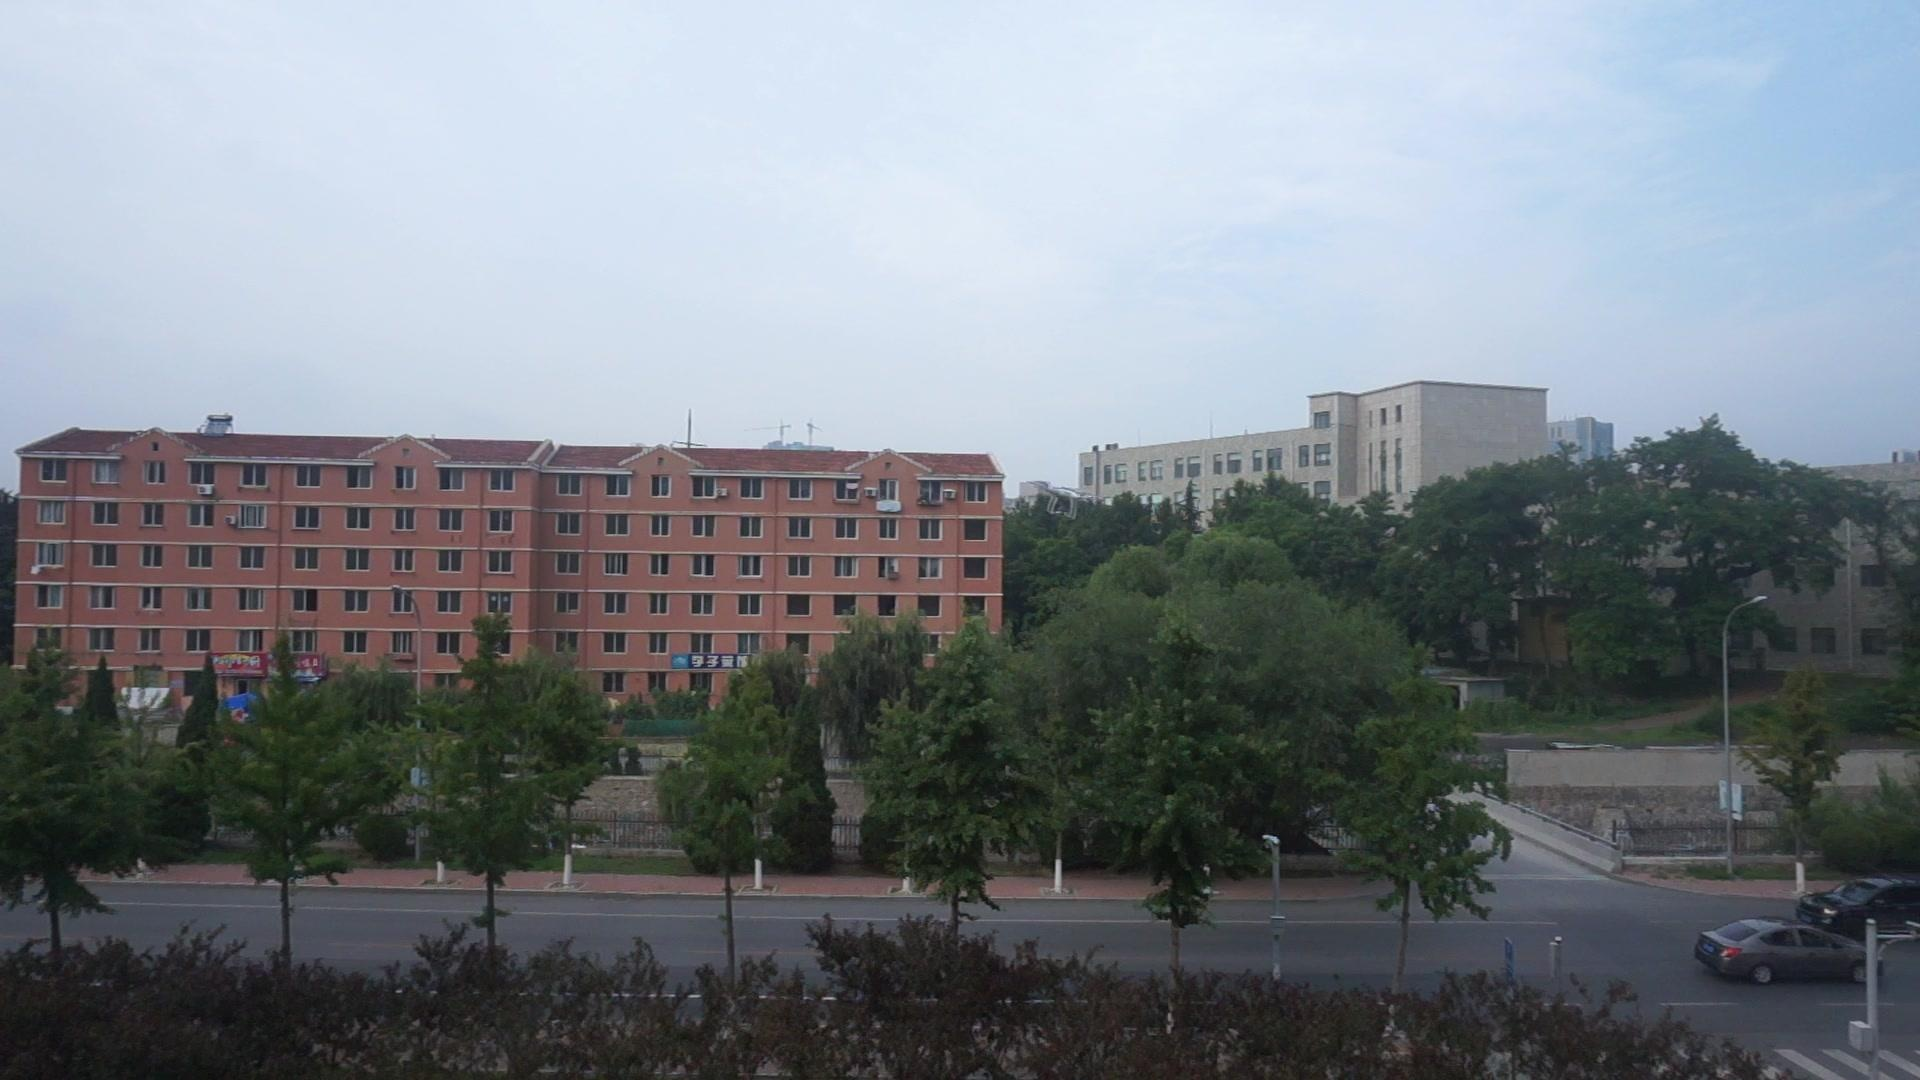UAV: (1035, 483, 1104, 520)
